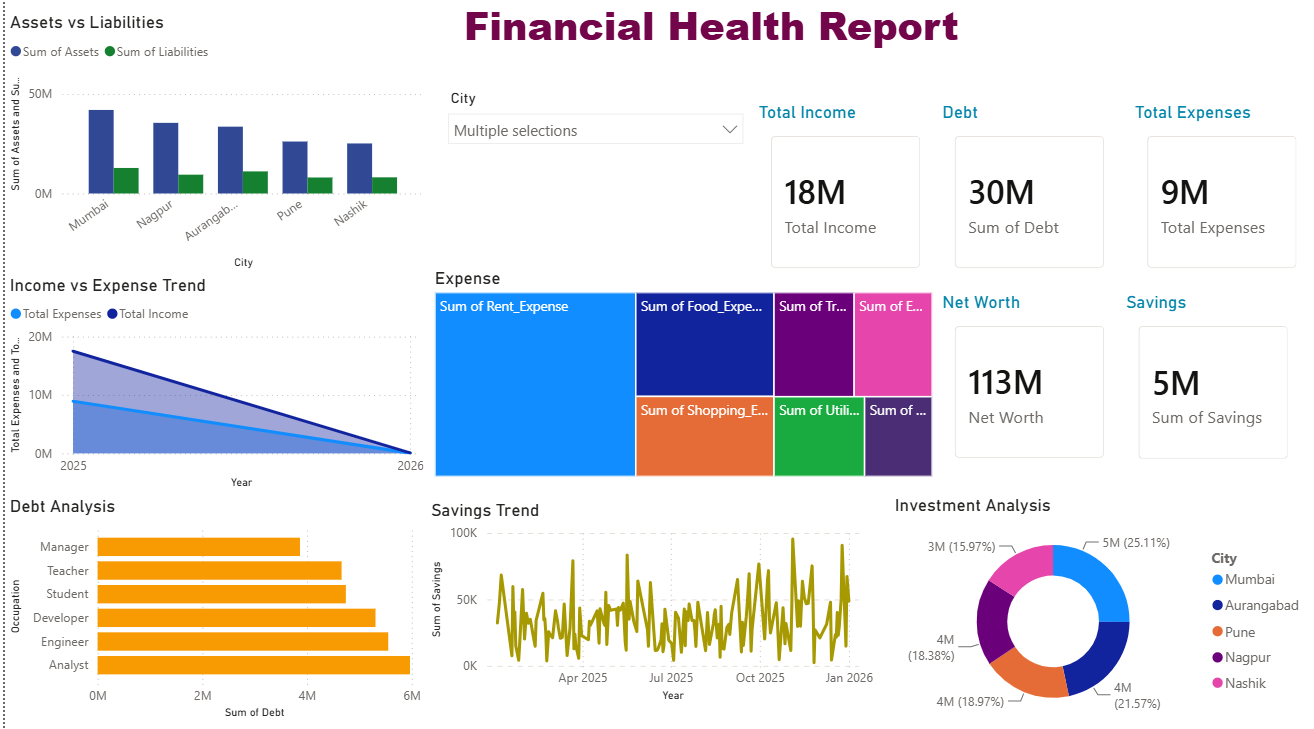

The page's visual inventory and layout, read from the dashboard file:
{"tool":"powerbi","page":{"name":"Page 1","canvas":[1280,720],"ordinal":0},"visuals":[{"type":"areaChart","title":"Income vs Expense Trend","fields":{"Category":["Financial_Health_Data.Date.Variation.Date Hierarchy.Year"],"Y":["Financial_Health_Data.Total Expenses","Financial_Health_Data.Total Income"]},"box":[0,275.1,414.5,215.2],"z":0},{"type":"cardVisual","title":"Total Income ","fields":{"Data":["Financial_Health_Data.Total Income"]},"box":[732.4,106.4,180,180],"z":1000},{"type":"cardVisual","title":"Total Expenses","fields":{"Data":["Financial_Health_Data.Total Expenses"]},"box":[1100.4,106.4,180,180],"z":2000},{"type":"cardVisual","title":"Net Worth","fields":{"Data":["Financial_Health_Data.Net Worth"]},"box":[912.4,292.6,180,180],"z":3000},{"type":"cardVisual","title":"Debt","fields":{"Data":["Sum(Financial_Health_Data.Debt)"]},"box":[912.4,106.4,180,180],"z":4000},{"type":"cardVisual","title":"Savings","fields":{"Data":["Sum(Financial_Health_Data.Savings)"]},"box":[1092.4,292.6,180,180.9],"z":5000},{"type":"lineChart","title":" Savings Trend","fields":{"Y":["Sum(Financial_Health_Data.Savings)"],"Category":["Financial_Health_Data.Date.Variation.Date Hierarchy.Year","Financial_Health_Data.Date.Variation.Date Hierarchy.Quarter","Financial_Health_Data.Date.Variation.Date Hierarchy.Month","Financial_Health_Data.Date.Variation.Date Hierarchy.Day"]},"box":[412.1,495.2,442.7,203],"z":6000},{"type":"barChart","title":"Debt Analysis","fields":{"Y":["Sum(Financial_Health_Data.Debt)"],"Category":["Financial_Health_Data.Occupation"]},"box":[0,491.6,412.1,223.8],"z":7000},{"type":"donutChart","title":"Investment Analysis","fields":{"Category":["Financial_Health_Data.City"],"Y":["Sum(Financial_Health_Data.Investment)"]},"box":[865.8,490.4,414.5,229.9],"z":8000},{"type":"clusteredColumnChart","title":"Assets vs Liabilities","fields":{"Category":["Financial_Health_Data.City"],"Y":["Sum(Financial_Health_Data.Assets)","Sum(Financial_Health_Data.Liabilities)"]},"box":[0,18.3,415.8,256.8],"z":9000},{"type":"textbox","box":[306.9,0,676.2,89.3],"z":10000},{"type":"treemap","title":"Expense","fields":{"Values":["Sum(Financial_Health_Data.Rent_Expense)","Sum(Financial_Health_Data.Food_Expense)","Sum(Financial_Health_Data.Shopping_Expense)","Sum(Financial_Health_Data.Travel_Expense)","Sum(Financial_Health_Data.Education_Expense)","Sum(Financial_Health_Data.Healthcare_Expense)","Sum(Financial_Health_Data.Utilities_Expense)"]},"box":[415.8,269,496.5,209.1],"z":11000},{"type":"slicer","fields":{"Values":["Financial_Health_Data.City"]},"box":[423.1,89.3,309.4,155.3],"z":12000}]}

Visuals, with their boxes in screenshot pixels (x1, y1, x2, y2), scaled from the page's 1280x720 canvas onto the 1314x729 screenshot:
"Income vs Expense Trend" areaChart: [0,279,426,496]
"Total Income " cardVisual: [752,108,937,290]
"Total Expenses" cardVisual: [1130,108,1313,290]
"Net Worth" cardVisual: [937,296,1121,479]
"Debt" cardVisual: [937,108,1121,290]
"Savings" cardVisual: [1121,296,1306,479]
" Savings Trend" lineChart: [423,501,878,707]
"Debt Analysis" barChart: [0,498,423,724]
"Investment Analysis" donutChart: [889,497,1313,728]
"Assets vs Liabilities" clusteredColumnChart: [0,19,427,279]
textbox: [315,0,1009,90]
"Expense" treemap: [427,272,937,484]
slicer - Financial_Health_Data.City: [434,90,752,248]
